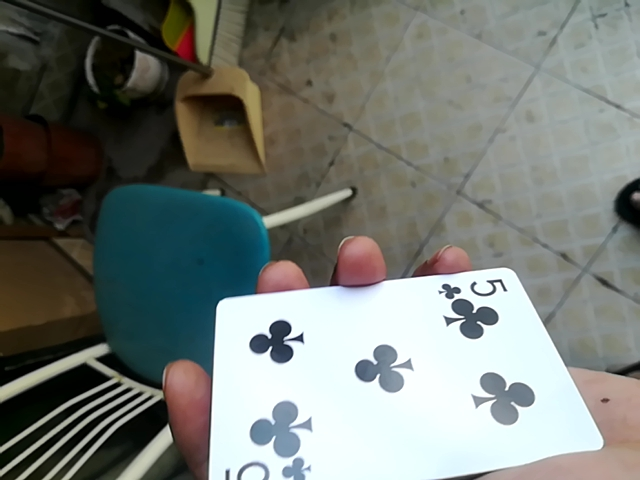mh 5: (203, 261, 590, 480)
